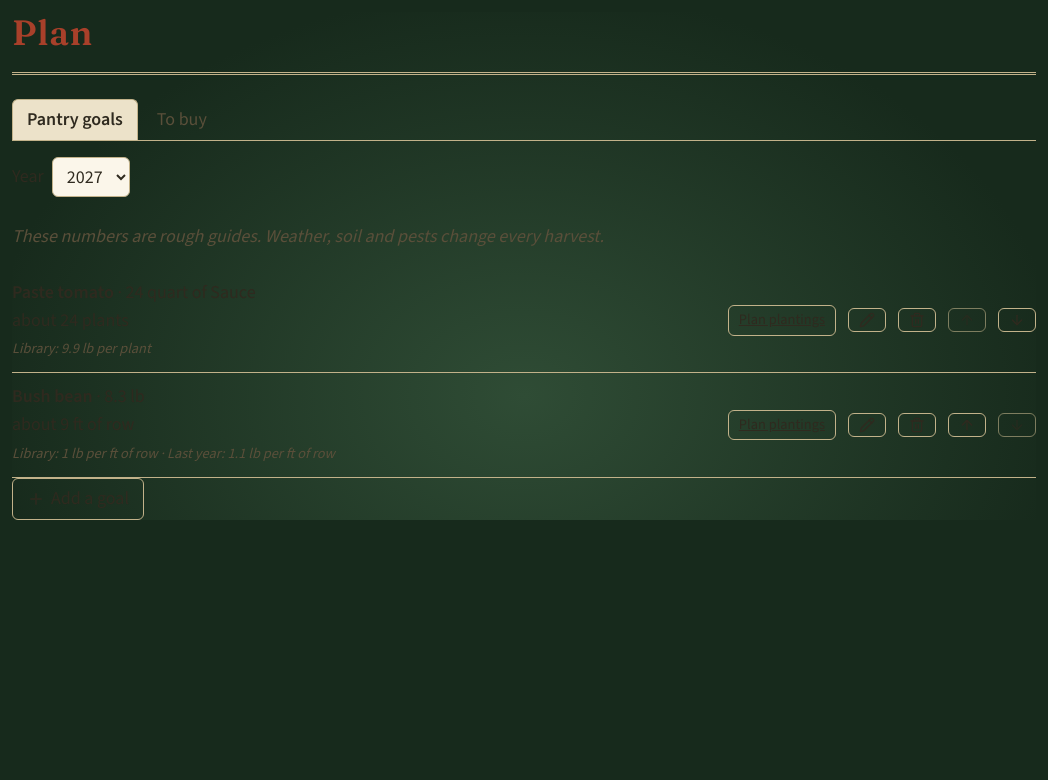
Scenario: Plan › the plan shows feet in US units and labels numbers as rough guides
The image size is (1048, 780).
Expected: the text "Last year" is shown, top-left (12, 444), bottom-right (335, 463)
Expected: the text "rough guides" is shown, top-left (12, 224), bottom-right (604, 248)
Click the link "Plan plantings" in the row of "about 9 ft of row".
click(782, 425)  # box top-left (728, 410), bottom-right (836, 440)
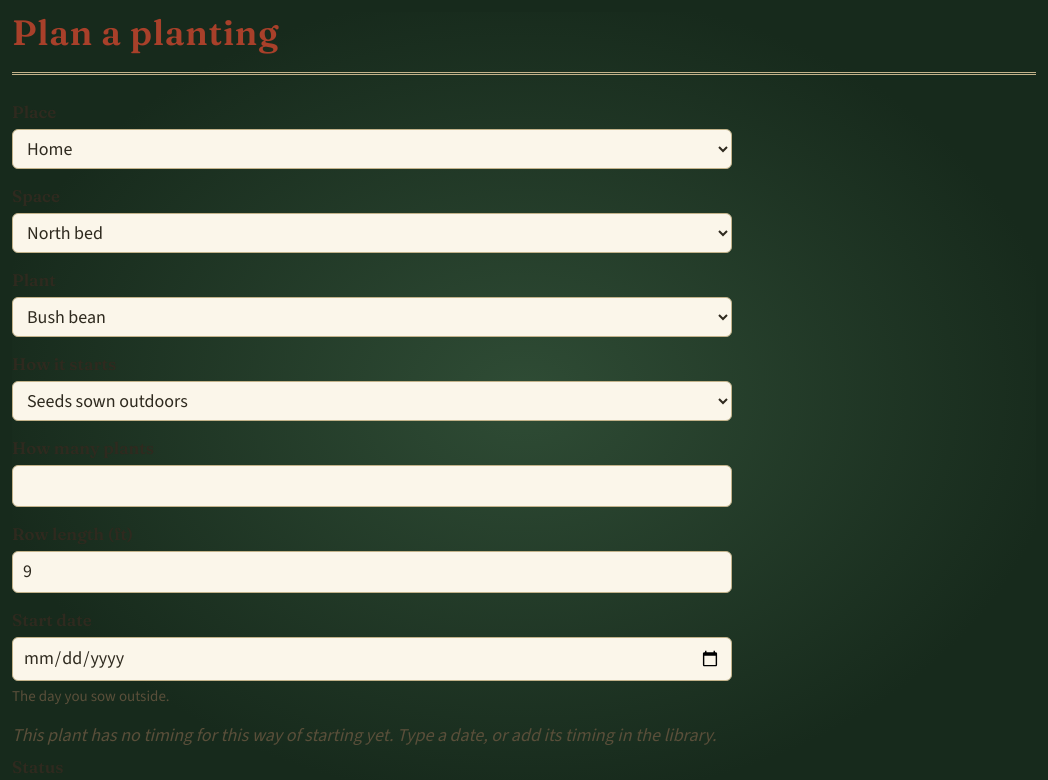
Expected: the field labelled "Row length (ft)" holds "9", top-left (12, 551), bottom-right (732, 593)
